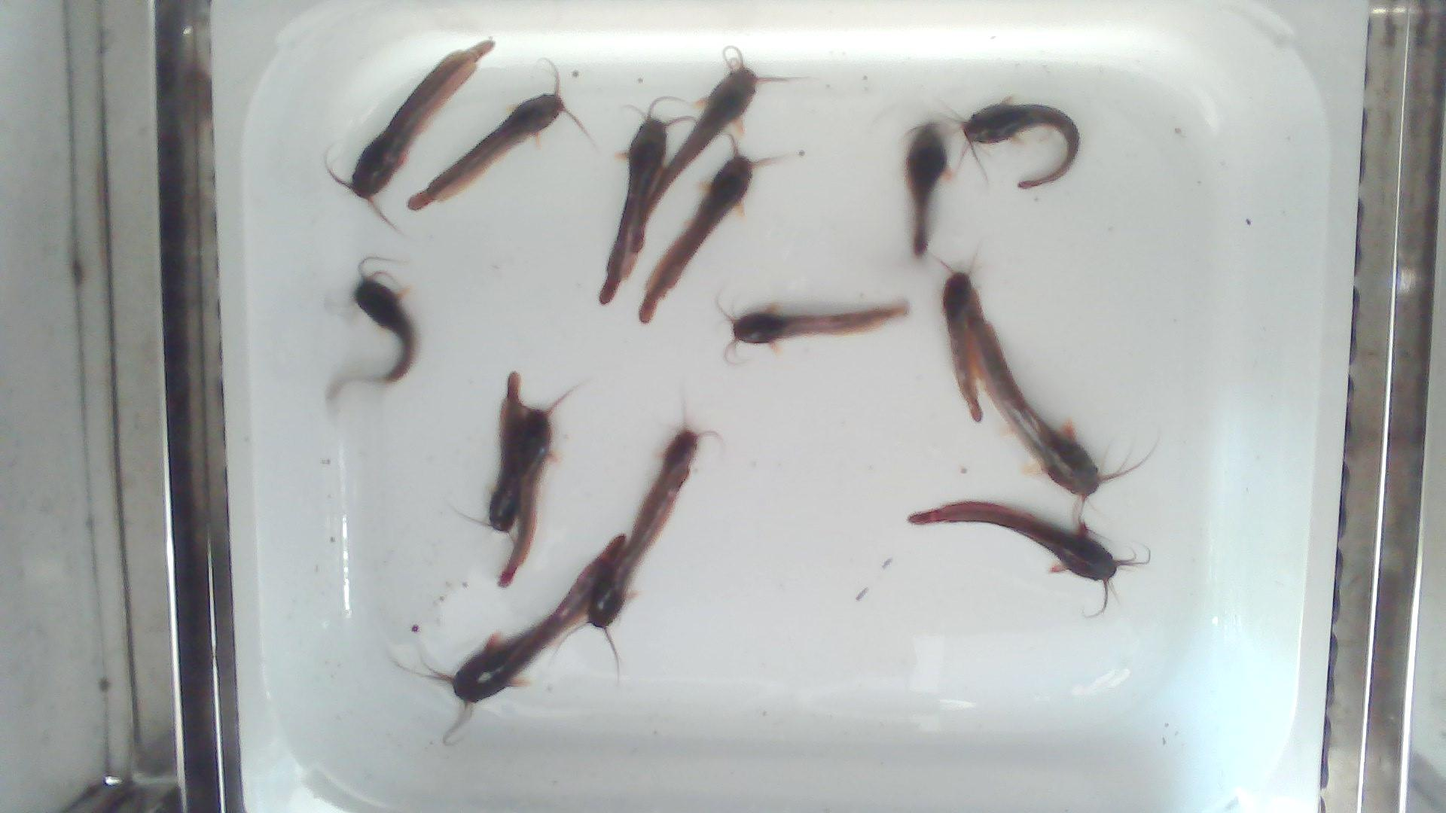lele: (966, 285, 1156, 531), (416, 533, 625, 735), (627, 48, 812, 276), (323, 40, 494, 237), (639, 137, 794, 323), (906, 500, 1152, 615), (407, 60, 593, 209), (554, 471, 690, 668), (602, 102, 691, 301), (716, 299, 910, 374), (501, 386, 574, 585), (935, 98, 1082, 193), (334, 253, 416, 400), (466, 375, 525, 534), (934, 247, 983, 424), (902, 121, 948, 262), (647, 410, 716, 499)
